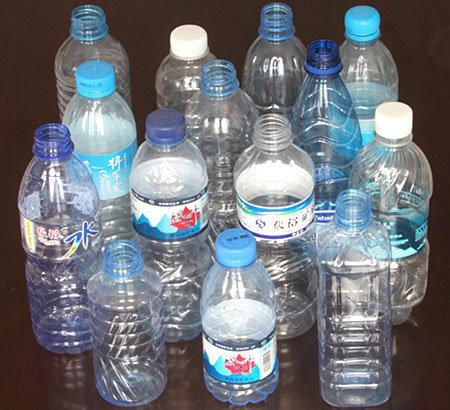plastic_bottle: (310, 188, 401, 407), (233, 108, 318, 341), (350, 99, 434, 326), (127, 106, 210, 335), (19, 123, 101, 344), (195, 226, 288, 406), (80, 236, 177, 406), (54, 60, 141, 242), (179, 58, 267, 182), (328, 6, 403, 146), (51, 4, 134, 120), (292, 41, 364, 170), (241, 1, 319, 108), (152, 23, 227, 115)
